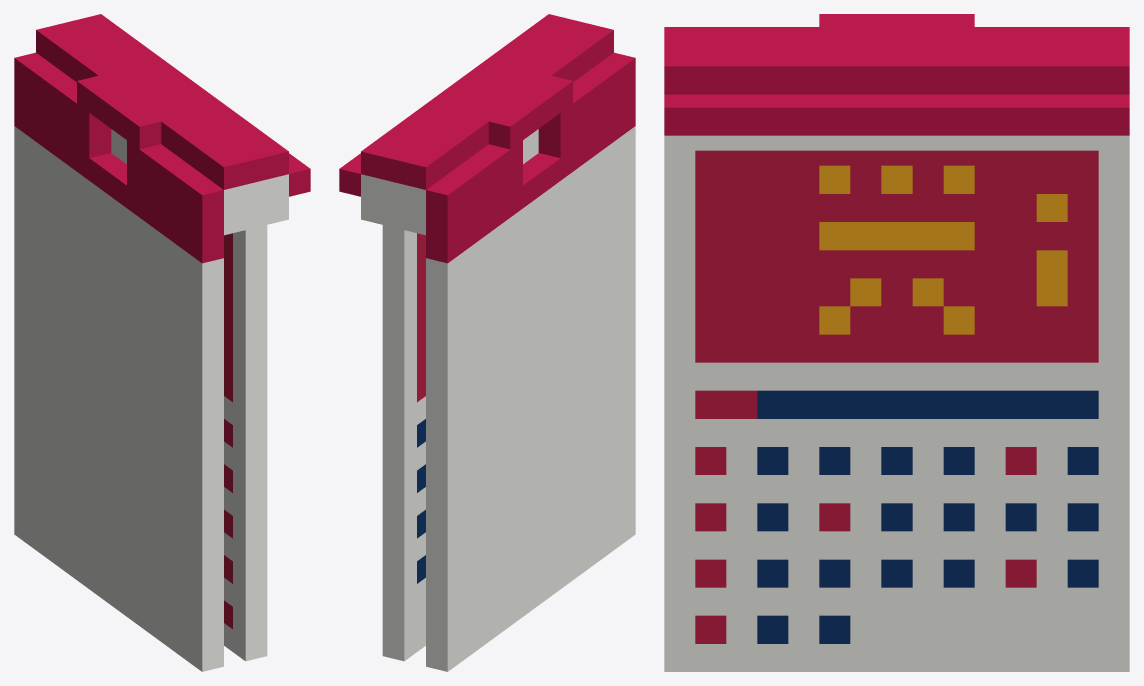
File: Calendar.fbx
3 views of the same model, side by side, from view 1: azimuth 30°, elevation 25°; view 2: azimuth 150°, elevation 25°; view 3: azimuth 270°, elevation 25° (orthographic). The views are drawn at different scales.
Visible parts, largest first — view 1: Calendar:Calendar; view 2: Calendar:Calendar; view 3: Calendar:Calendar.
Part boxes in pixels (bbox=[...]): Calendar:Calendar: bbox=[14, 14, 310, 671]; Calendar:Calendar: bbox=[339, 14, 635, 671]; Calendar:Calendar: bbox=[664, 14, 1129, 671].
Size of the model in its own units: 5 by 22 by 15.
